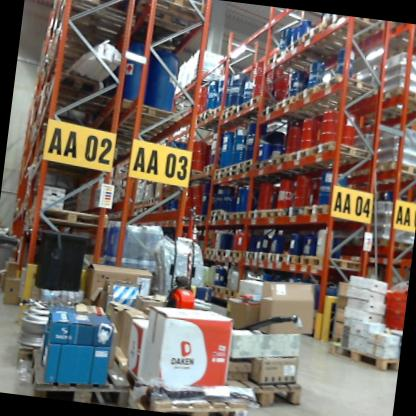pallet: (137, 374, 302, 416), (24, 348, 132, 402), (60, 0, 131, 47), (28, 198, 110, 236), (313, 66, 379, 111), (137, 0, 206, 42), (47, 72, 114, 113), (120, 98, 183, 140), (307, 134, 370, 174), (332, 338, 398, 373), (323, 13, 384, 46), (300, 248, 362, 275), (281, 25, 315, 69), (303, 21, 340, 57), (377, 153, 416, 185), (383, 80, 416, 117), (296, 78, 330, 109), (276, 92, 314, 118), (257, 96, 285, 125), (305, 197, 327, 218), (289, 144, 310, 164), (285, 201, 306, 219), (272, 146, 290, 165), (240, 250, 259, 267), (282, 254, 303, 268), (268, 205, 287, 219), (264, 250, 281, 264), (247, 207, 265, 220), (256, 157, 273, 169)
small_load_carrier: (382, 289, 405, 311), (383, 308, 404, 331)
